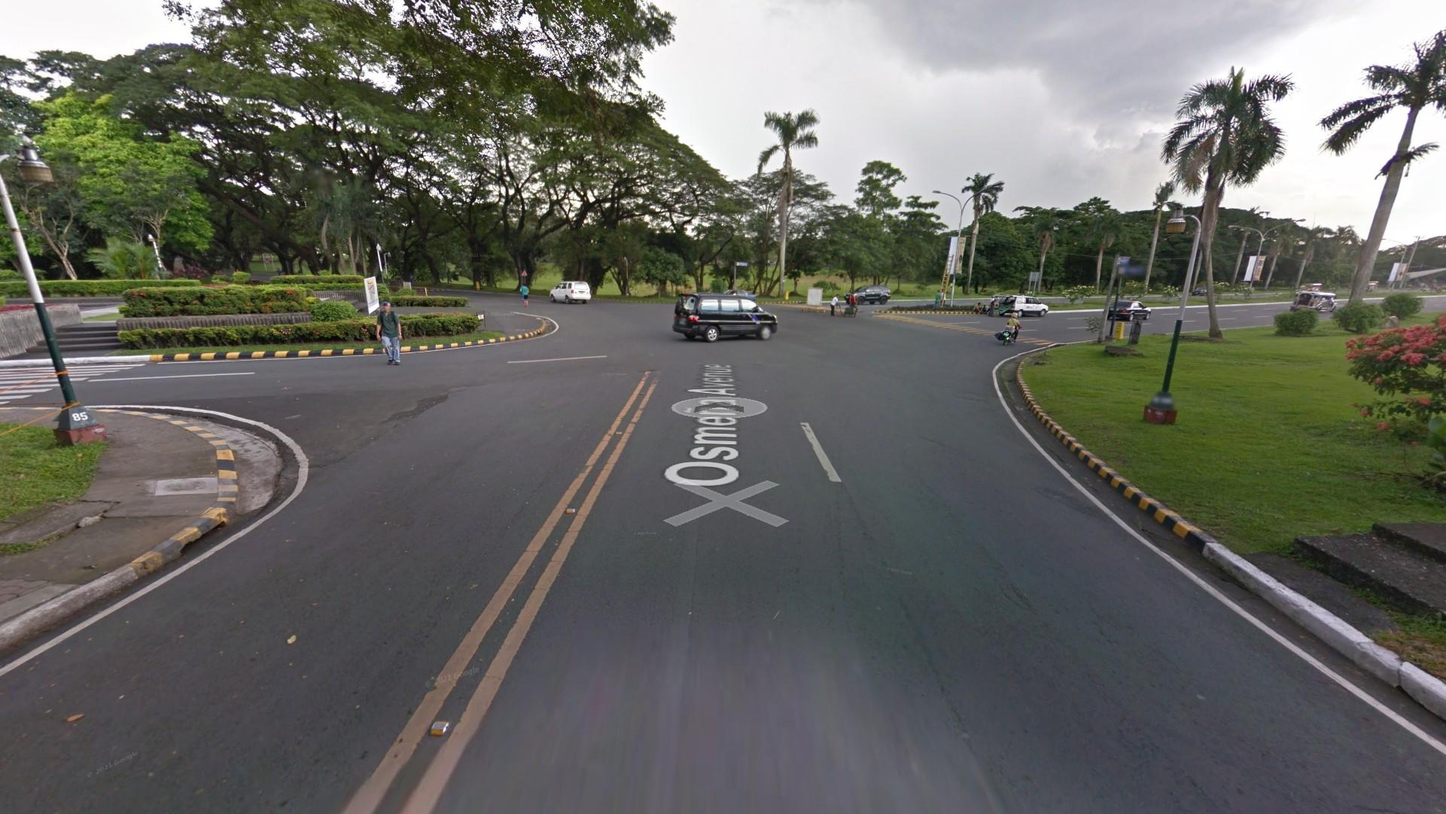pedestrian: (375, 299, 404, 368), (828, 294, 840, 317), (521, 282, 531, 307), (848, 292, 857, 317), (938, 289, 946, 310), (934, 290, 941, 311), (973, 302, 982, 315), (982, 304, 990, 315)
